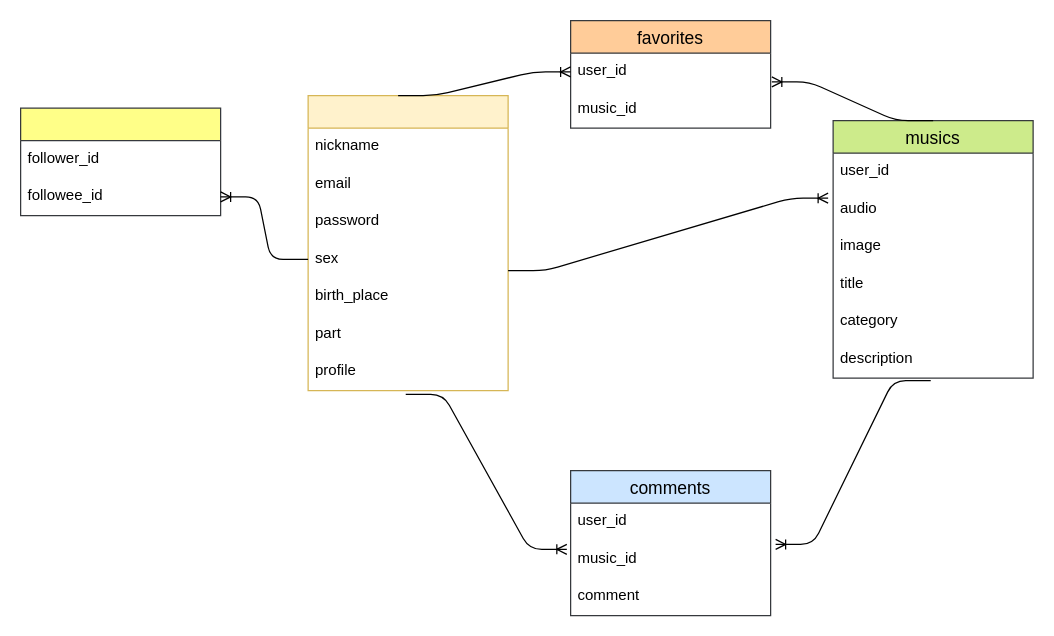
Image size: 1054x636. Some labels were removed from this diagram. Here are the shapes that lost their labels. From the top down, the box of each, then its label:
(19, 107, 221, 216): follows
(307, 94, 508, 391): Users
